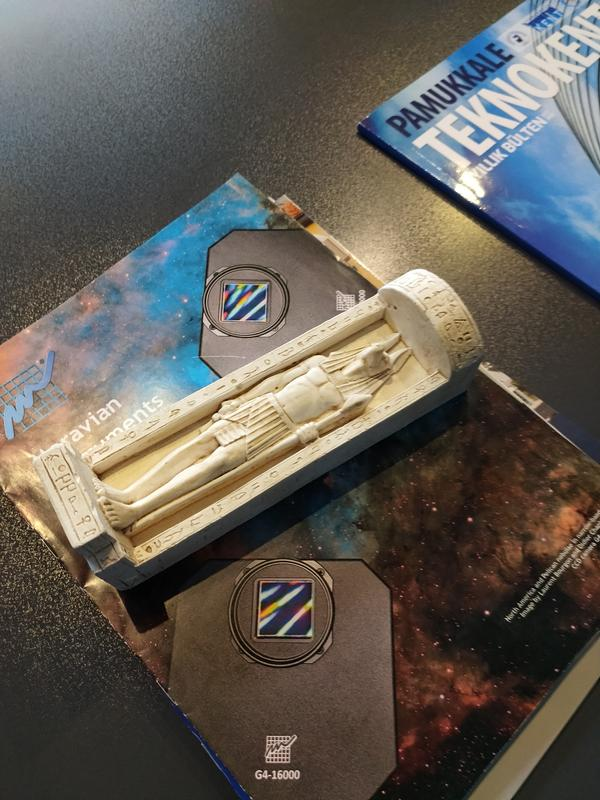heykel: (26, 265, 493, 601)
